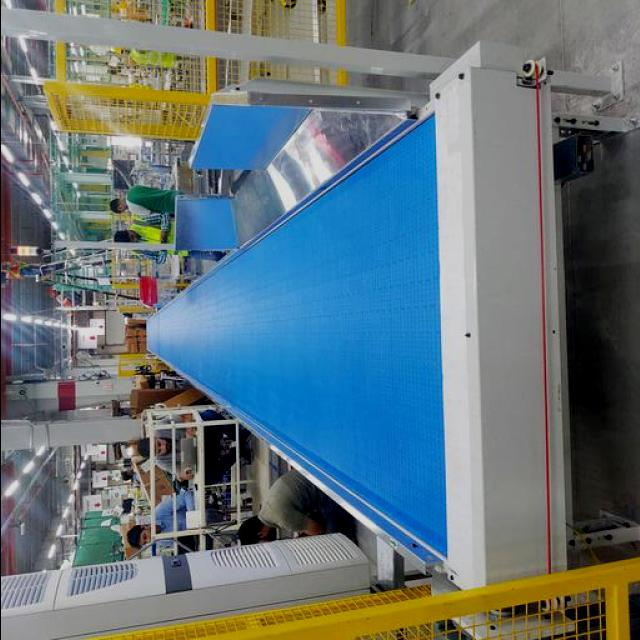conveyor: (143, 105, 445, 569)
